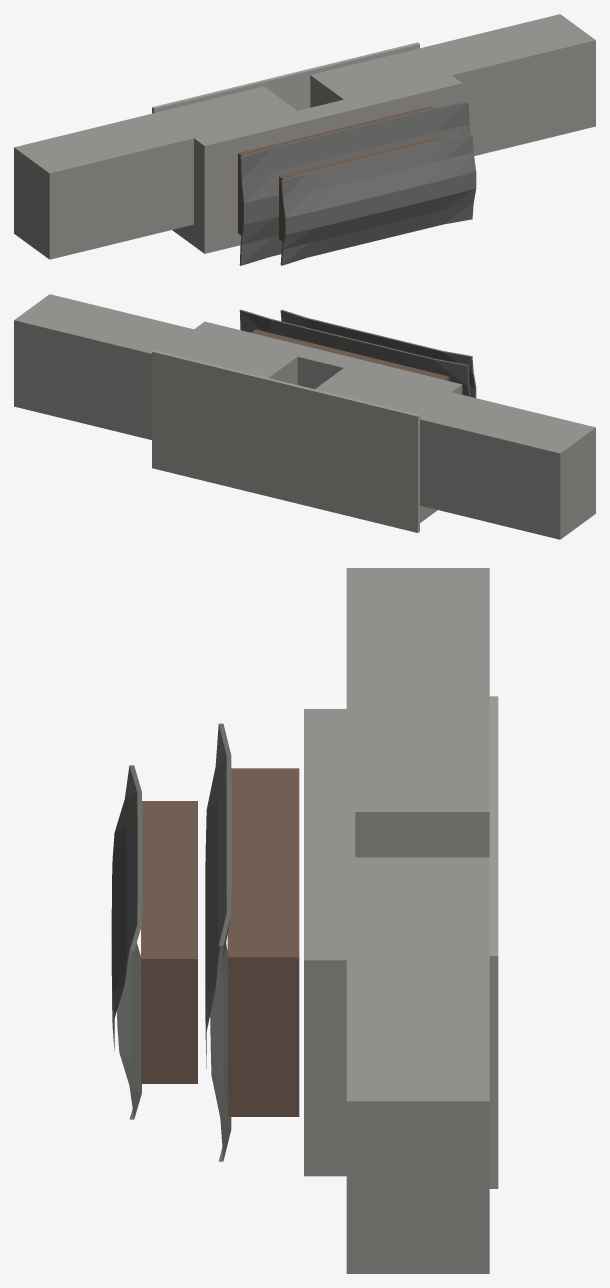
The model's file is SM_Zhengximen_LOD4.glb.
3 views of the same model, one above another, from view 1: azimuth 30°, elevation 25°; view 2: azimuth 150°, elevation 25°; view 3: azimuth 270°, elevation 25° (orthographic). The views are drawn at different scales.
Parts seen in each view (by area): view 1: GrayBrick, ClayRoofTile, StoneFoundation, DarkTimber; view 2: GrayBrick, StoneFoundation, ClayRoofTile, DarkTimber; view 3: GrayBrick, DarkTimber, ClayRoofTile, StoneFoundation.
Boxes of the visible parts, x1,y1,x2,y2 form: GrayBrick: [14, 14, 595, 259]; ClayRoofTile: [239, 101, 476, 265]; StoneFoundation: [152, 42, 419, 113]; DarkTimber: [238, 106, 443, 241]; GrayBrick: [14, 294, 595, 539]; StoneFoundation: [152, 350, 419, 532]; ClayRoofTile: [239, 309, 476, 397]; DarkTimber: [251, 329, 449, 380]; GrayBrick: [304, 568, 489, 1273]; DarkTimber: [141, 768, 299, 1116]; ClayRoofTile: [111, 723, 231, 1161]; StoneFoundation: [489, 696, 498, 1188].
Bounding box in the file's own units: 53 × 10.8 × 16.23.
